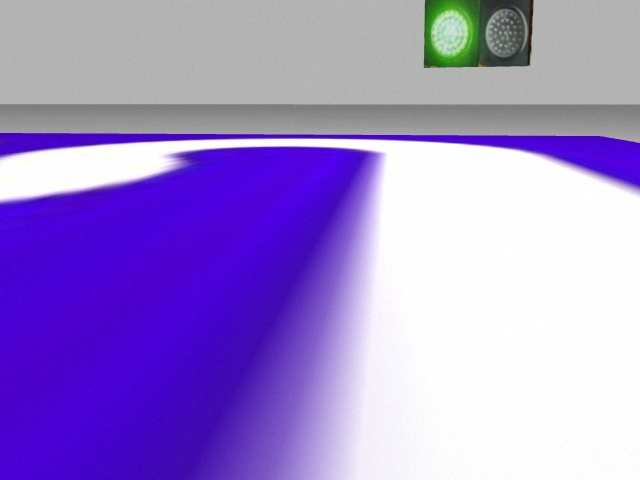green: (426, 2, 478, 67)
